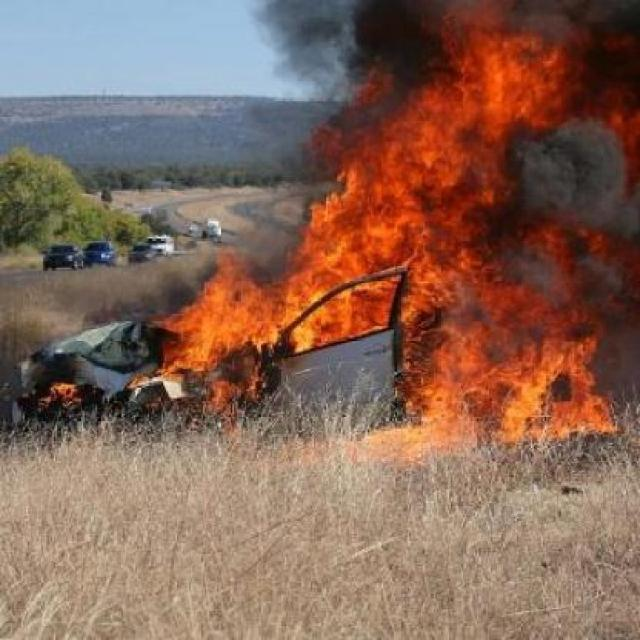Fire: (176, 102, 640, 472)
